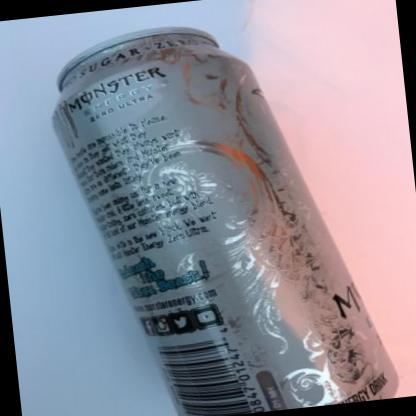Metal: (51, 27, 397, 416)
